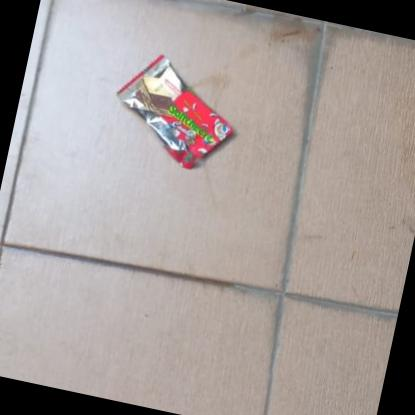Plastik: (103, 45, 245, 175)
